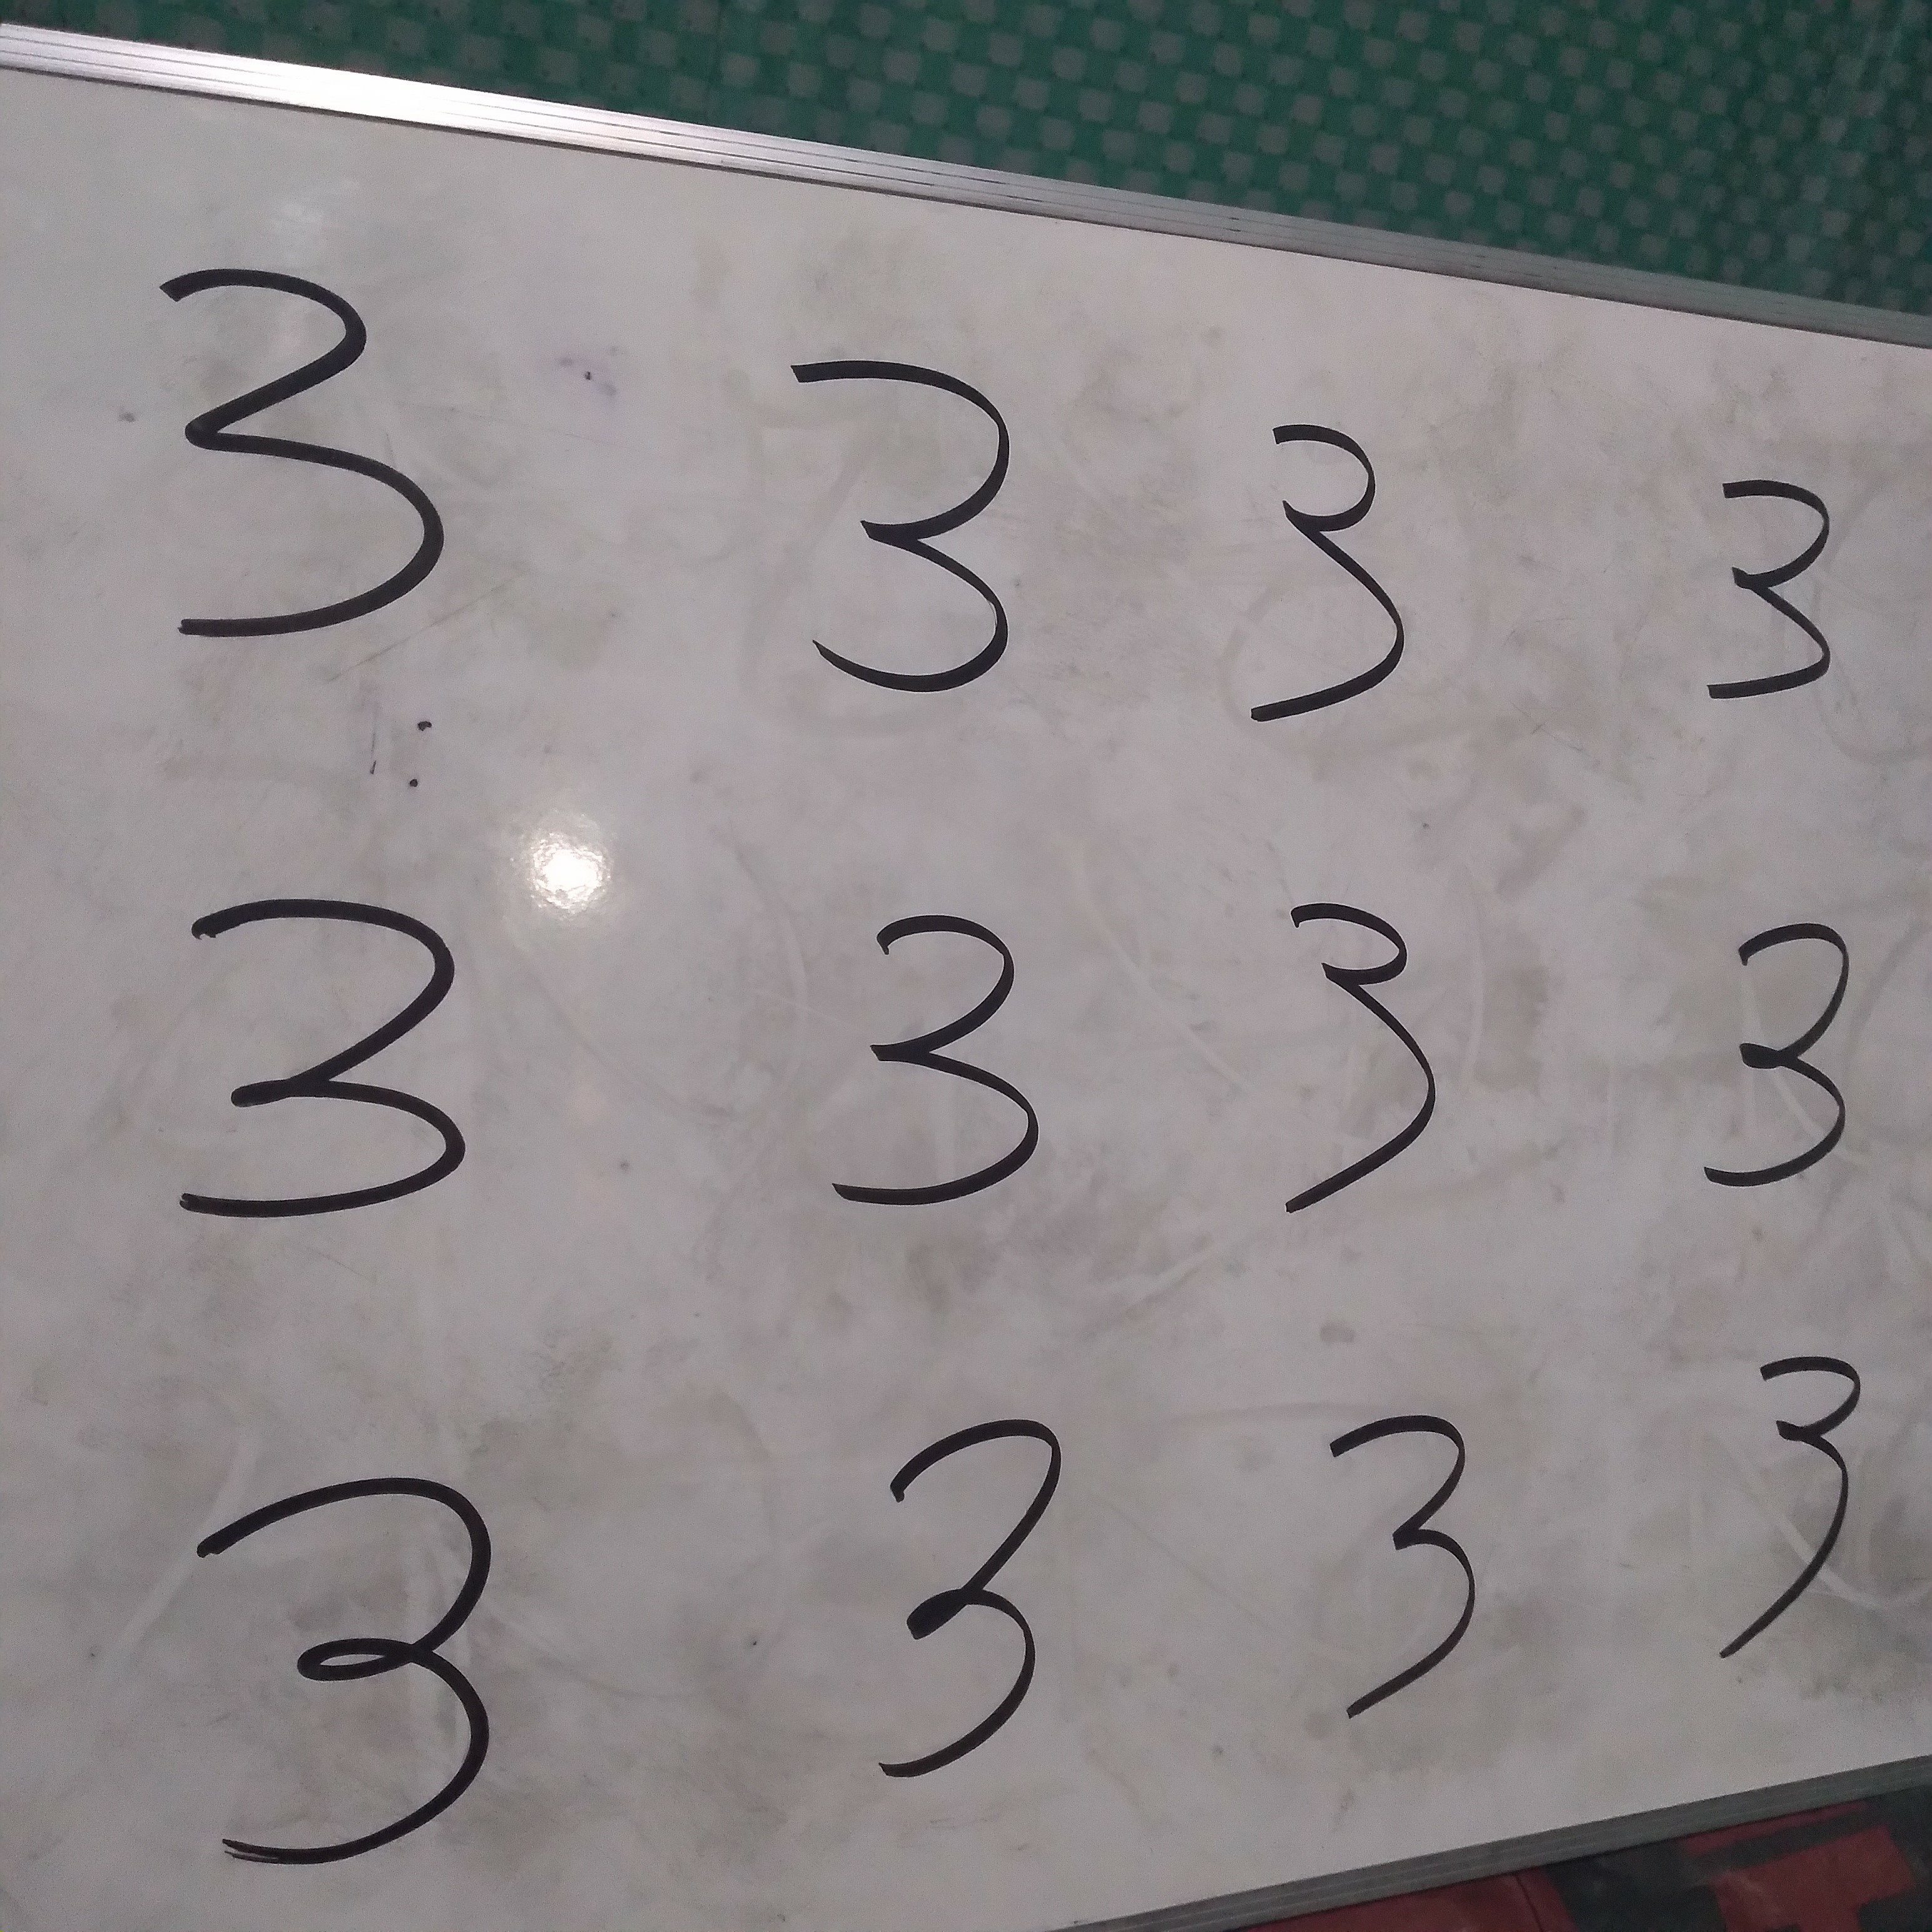num3: (1197, 855, 1533, 1299), (776, 854, 1112, 1298), (140, 239, 476, 683), (166, 811, 503, 1254), (188, 1421, 524, 1864), (763, 300, 1099, 743), (808, 1380, 1144, 1824), (1224, 1373, 1561, 1817), (1151, 345, 1488, 789), (1595, 372, 1932, 816), (1595, 827, 1932, 1271), (1595, 1292, 1932, 1736)
